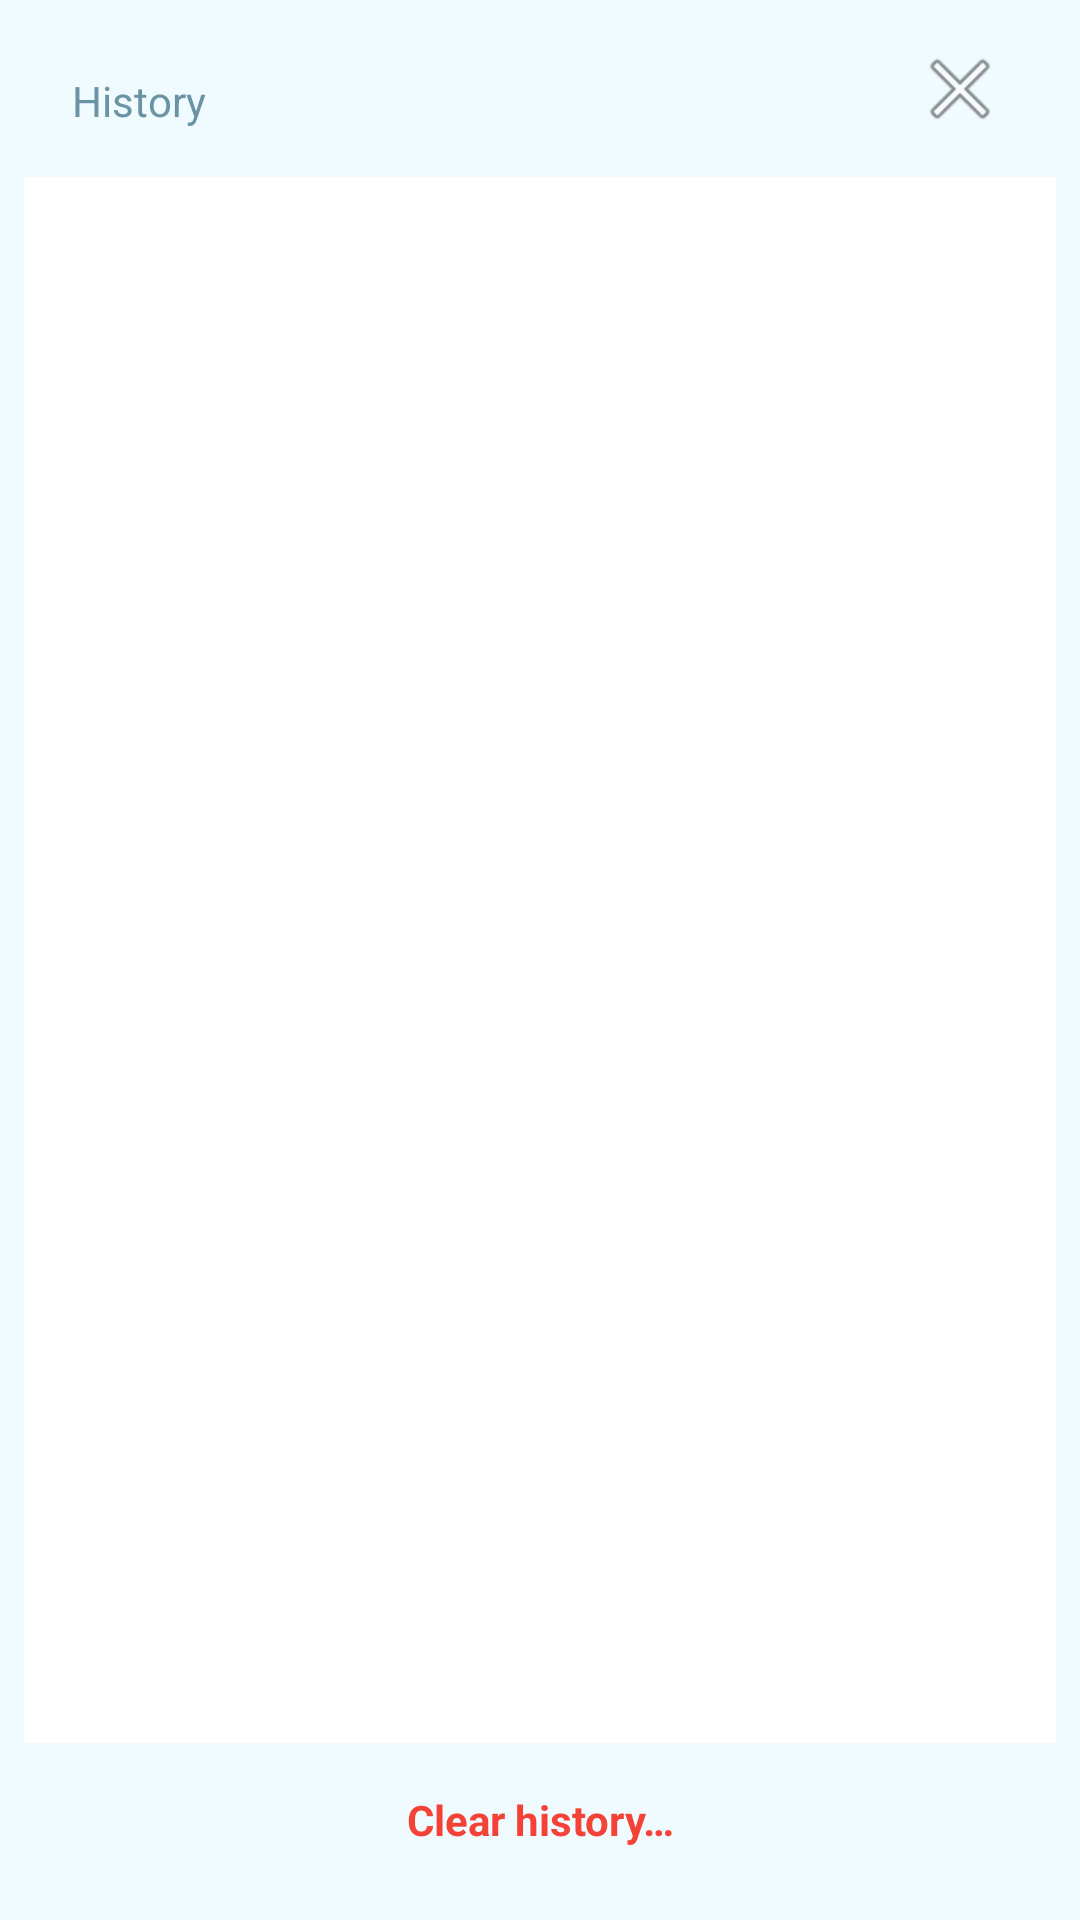

Screen size 1080*1920. Icon name, then its center in pixels as point (x, y):
close clear cancel: point (960, 89)
